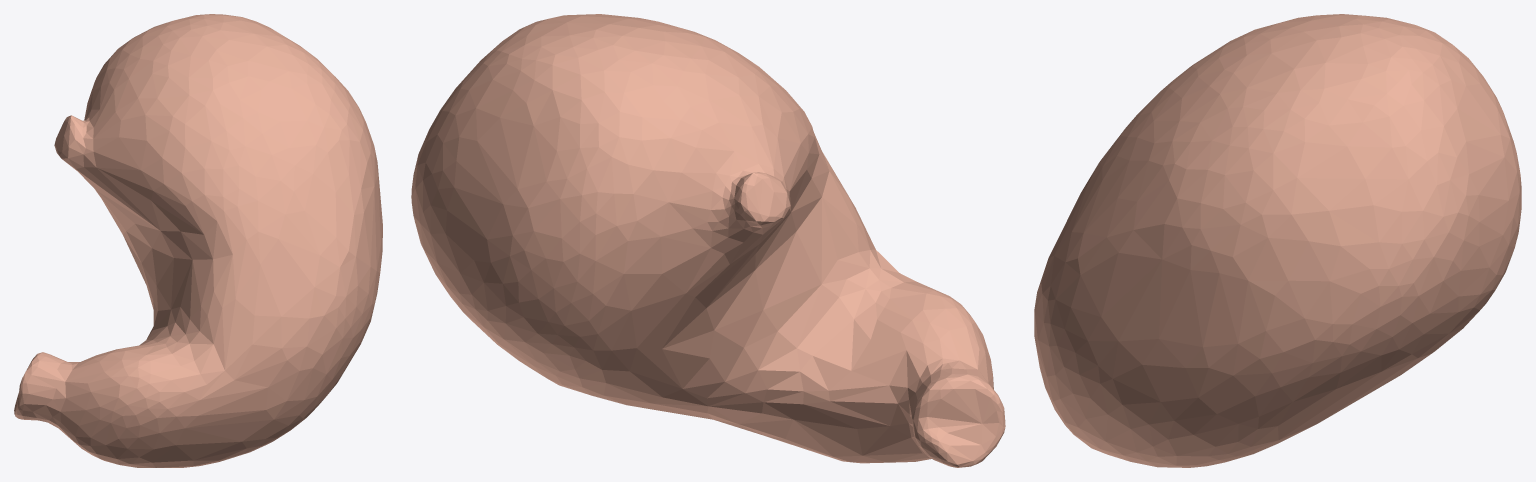
The model's file is stomach.glb.
The picture shows the model from 3 angles, left to right: view 1: azimuth 30°, elevation 25°; view 2: azimuth 150°, elevation 25°; view 3: azimuth 270°, elevation 25°; orthographic projection. The views are drawn at different scales.
Visible parts, largest first — view 1: Stomach; view 2: Stomach; view 3: Stomach.
Boxes of the visible parts, box(x1,y1,x2,y2) form: Stomach: box(14, 14, 382, 467); Stomach: box(411, 14, 1005, 467); Stomach: box(1034, 14, 1521, 467).
Size of the model in its own units: 134 by 117 by 113.
